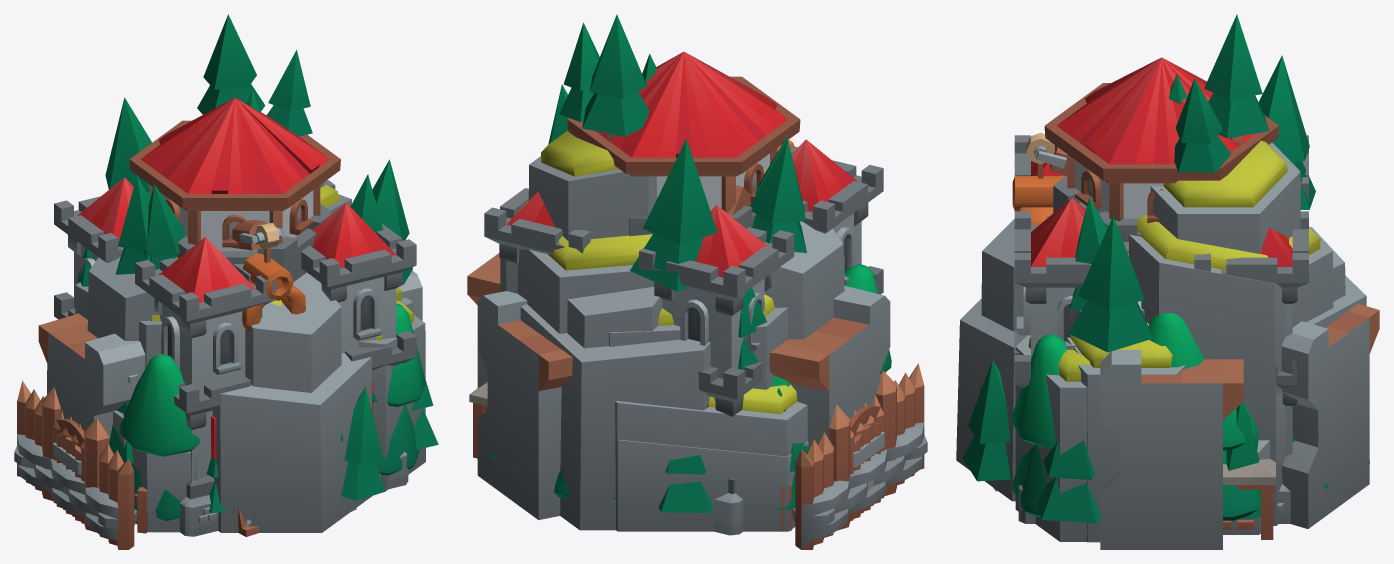
File: town.glb
The picture shows the model from 3 angles, left to right: view 1: azimuth 30°, elevation 25°; view 2: azimuth 150°, elevation 25°; view 3: azimuth 270°, elevation 25°; orthographic projection. The views are drawn at different scales.
Parts seen in each view (by area): view 1: mountain_C, building_barracks_red, building_tower_A_top_red, mountain_B_grass_trees, mountain_A_grass_trees, trees_B_large, trees_A_large, wall_corner_A_outside, fence_stone_straight, fence_wood_straight, building_lumbermill_top_yellow, wall_straight_gate (+5 smaller); view 2: mountain_B_grass_trees, mountain_C, building_barracks_red, mountain_A_grass_trees, wall_corner_A_outside, building_tower_A_top_red, fence_stone_straight, fence_wood_straight, fence_wood_straight_gate, wall_straight, trees_A_large, fence_wood_straight_door (+4 smaller); view 3: mountain_B_grass_trees, wall_straight, building_tower_A_top_red, wall_corner_A_outside, building_barracks_red, mountain_A_grass_trees, wall_straight_gate, mountain_C, trees_A_large, trees_B_large, building_lumbermill_top_yellow, building_market_red (+2 smaller).
Boxes of the visible parts, bbox=[...] form: mountain_C: bbox=[87, 256, 425, 532]; building_barracks_red: bbox=[54, 177, 416, 536]; building_tower_A_top_red: bbox=[129, 97, 340, 251]; mountain_B_grass_trees: bbox=[47, 14, 413, 447]; mountain_A_grass_trees: bbox=[75, 90, 425, 488]; trees_B_large: bbox=[119, 303, 425, 521]; trees_A_large: bbox=[109, 379, 438, 513]; wall_corner_A_outside: bbox=[38, 313, 134, 431]; fence_stone_straight: bbox=[14, 434, 136, 541]; fence_wood_straight: bbox=[17, 380, 134, 549]; building_lumbermill_top_yellow: bbox=[231, 219, 305, 331]; wall_straight_gate: bbox=[94, 274, 422, 441]; mountain_B_grass_trees: bbox=[500, 14, 807, 530]; mountain_C: bbox=[520, 221, 885, 530]; building_barracks_red: bbox=[484, 139, 883, 535]; mountain_A_grass_trees: bbox=[548, 53, 844, 531]; wall_corner_A_outside: bbox=[477, 287, 890, 519]; building_tower_A_top_red: bbox=[567, 51, 800, 213]; fence_stone_straight: bbox=[792, 422, 927, 549]; fence_wood_straight: bbox=[795, 363, 924, 549]; fence_wood_straight_gate: bbox=[795, 370, 924, 549]; wall_straight: bbox=[468, 253, 881, 361]; trees_A_large: bbox=[492, 388, 809, 513]; fence_wood_straight_door: bbox=[853, 422, 884, 518]; mountain_B_grass_trees: bbox=[1070, 14, 1333, 542]; wall_straight: bbox=[1100, 350, 1243, 549]; building_tower_A_top_red: bbox=[1044, 57, 1278, 222]; wall_corner_A_outside: bbox=[1281, 303, 1379, 528]; building_barracks_red: bbox=[1014, 135, 1308, 523]; mountain_A_grass_trees: bbox=[1015, 55, 1315, 541]; wall_straight_gate: bbox=[1100, 301, 1243, 549]; mountain_C: bbox=[956, 219, 1369, 541]; trees_A_large: bbox=[962, 360, 1328, 523]; trees_B_large: bbox=[980, 322, 1260, 520]; building_lumbermill_top_yellow: bbox=[1012, 132, 1067, 225]; building_market_red: bbox=[1223, 458, 1275, 539].
Bounding box in the file's own units: 2.1 × 2.61 × 2.07.
1 material, 1 textured.
